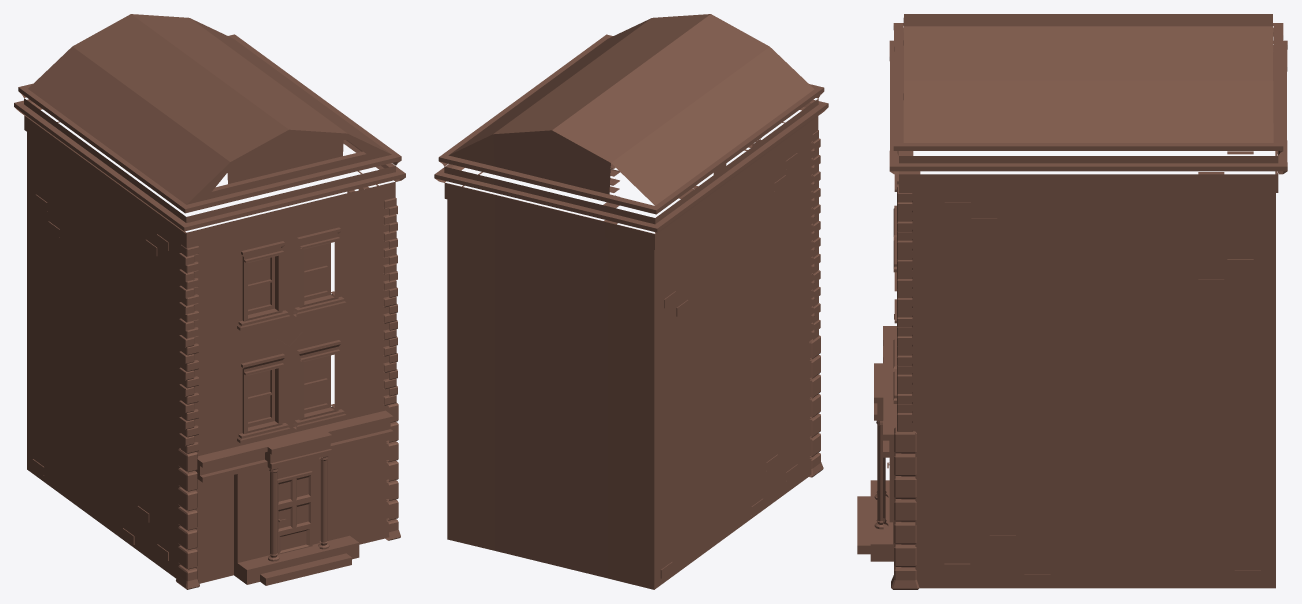
The model's file is housing-extra-townhouse-a.glb.
3 renders of one model, left to right at view 1: azimuth 30°, elevation 25°; view 2: azimuth 150°, elevation 25°; view 3: azimuth 270°, elevation 25°, orthographic. The views are drawn at different scales.
Parts seen in each view (by area): view 1: Building3_Small; view 2: Building3_Small; view 3: Building3_Small.
Boxes of the visible parts, bbox=[...] form: Building3_Small: bbox=[14, 14, 405, 589]; Building3_Small: bbox=[434, 14, 828, 589]; Building3_Small: bbox=[857, 14, 1287, 589].
Bounding box in the file's own units: 0.5376 × 1 × 0.7743.
